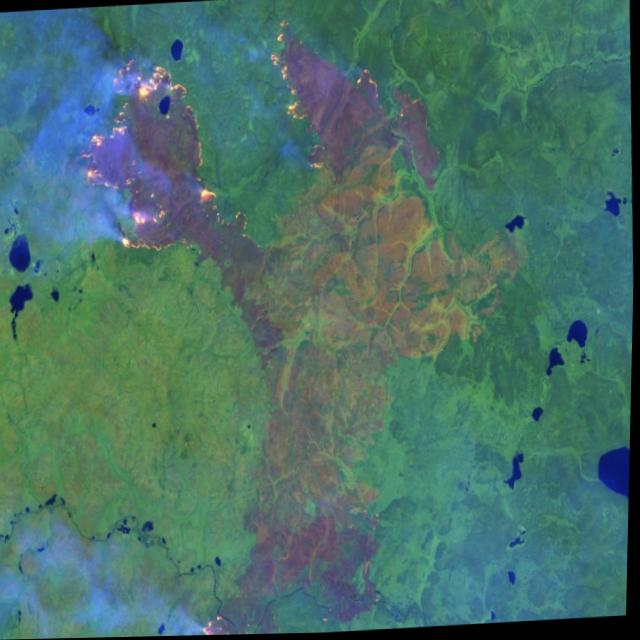fire: (72, 49, 231, 267), (263, 9, 393, 186)
